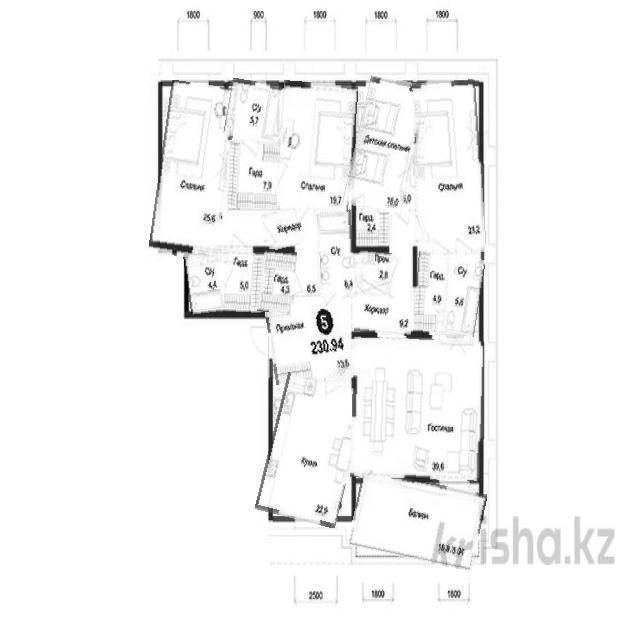balcony: (351, 474, 484, 565)
bathroom: (316, 210, 355, 298), (226, 80, 280, 142), (444, 256, 483, 336), (185, 251, 227, 314), (356, 251, 392, 295)
hallway: (268, 296, 352, 382), (263, 205, 321, 249), (355, 294, 414, 335)
kitchen: (262, 376, 361, 525)
living_room: (351, 337, 483, 480), (154, 82, 234, 259), (415, 80, 484, 255), (275, 81, 356, 210), (349, 76, 423, 213)
other: (226, 140, 280, 209), (415, 252, 448, 335), (224, 252, 264, 314), (259, 249, 296, 314), (354, 212, 390, 250)
